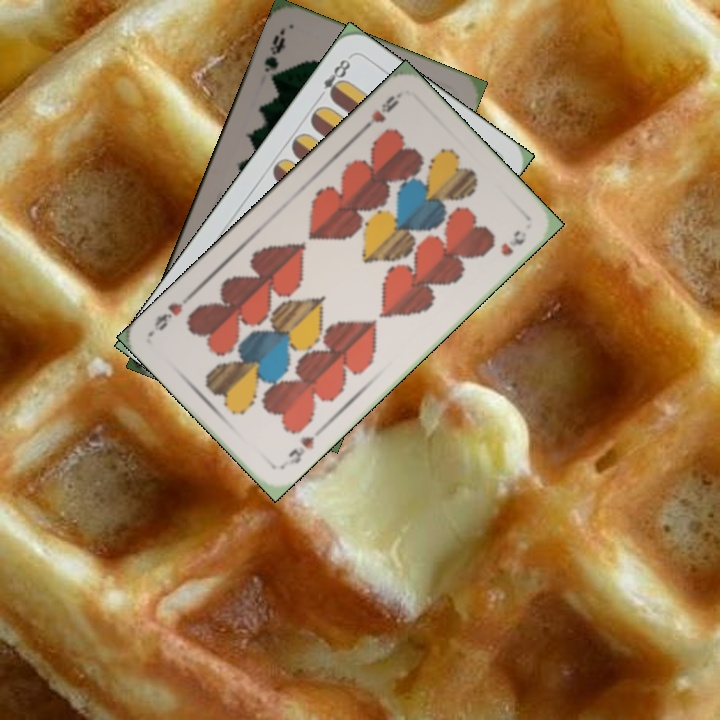E8: (313, 55, 353, 103)
G9: (260, 31, 288, 75)
H9: (356, 89, 404, 136), (276, 432, 318, 471)
